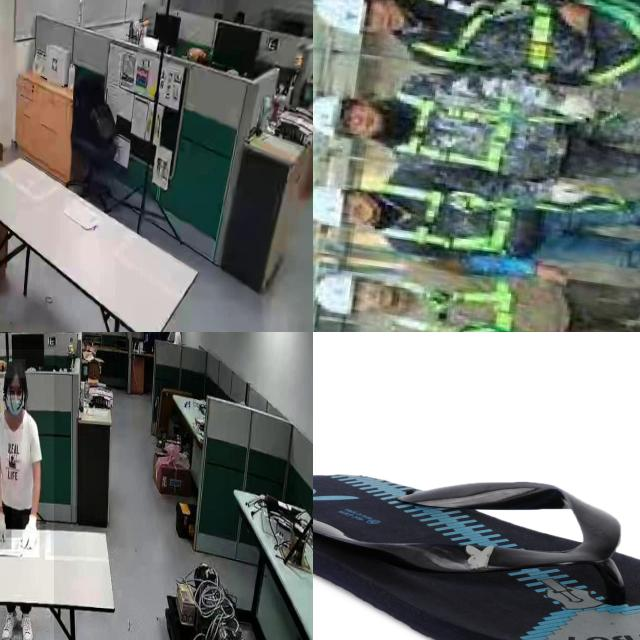Harness: (376, 82, 599, 188), (395, 0, 640, 94), (360, 176, 584, 266), (375, 263, 596, 332)
Sandals: (313, 471, 640, 640)
face_mask: (4, 386, 24, 430)
hand_glove: (22, 515, 40, 558), (0, 506, 12, 550)
head_nohelmet: (4, 359, 26, 379)
person: (0, 349, 54, 640)
shoes: (0, 600, 18, 640), (18, 603, 34, 640)
